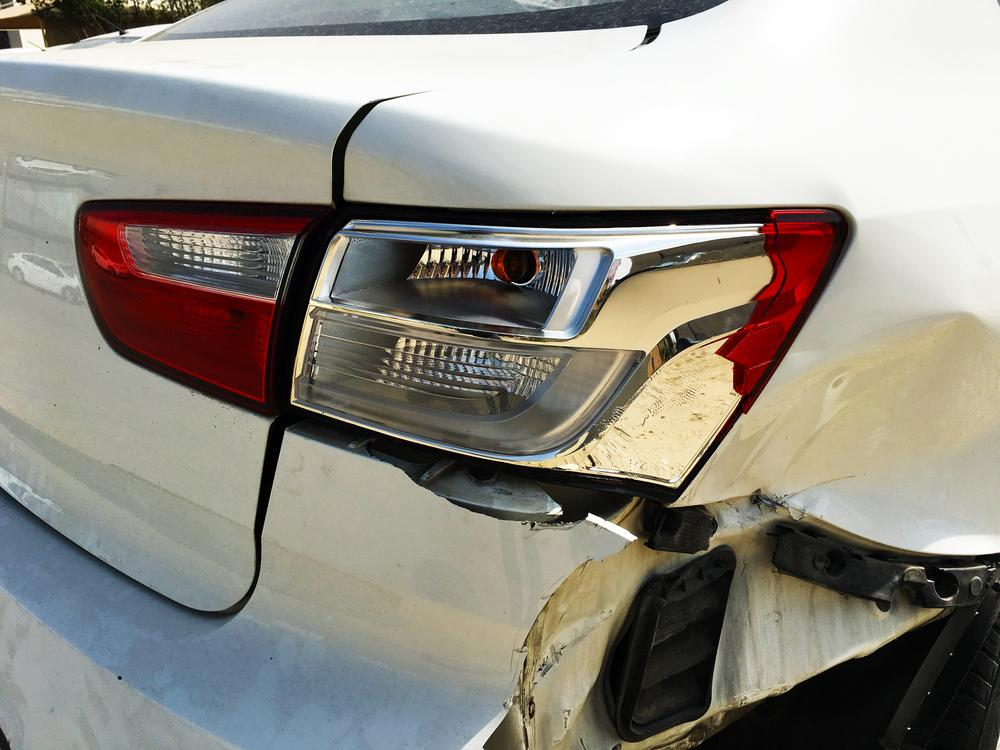dent: (693, 315, 1000, 555)
lamp broken: (288, 208, 851, 487)
